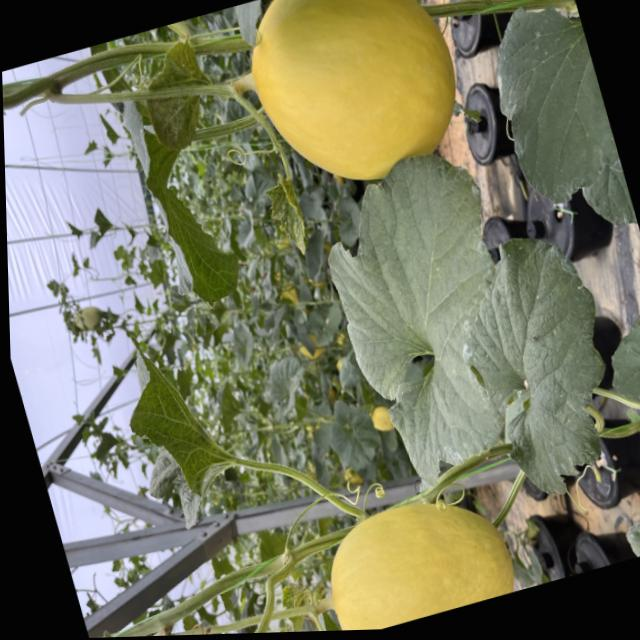CMV: (247, 164, 313, 264)
downy mildew: (298, 126, 563, 496), (457, 213, 638, 499), (99, 82, 255, 340), (473, 0, 629, 218), (106, 327, 250, 536)
